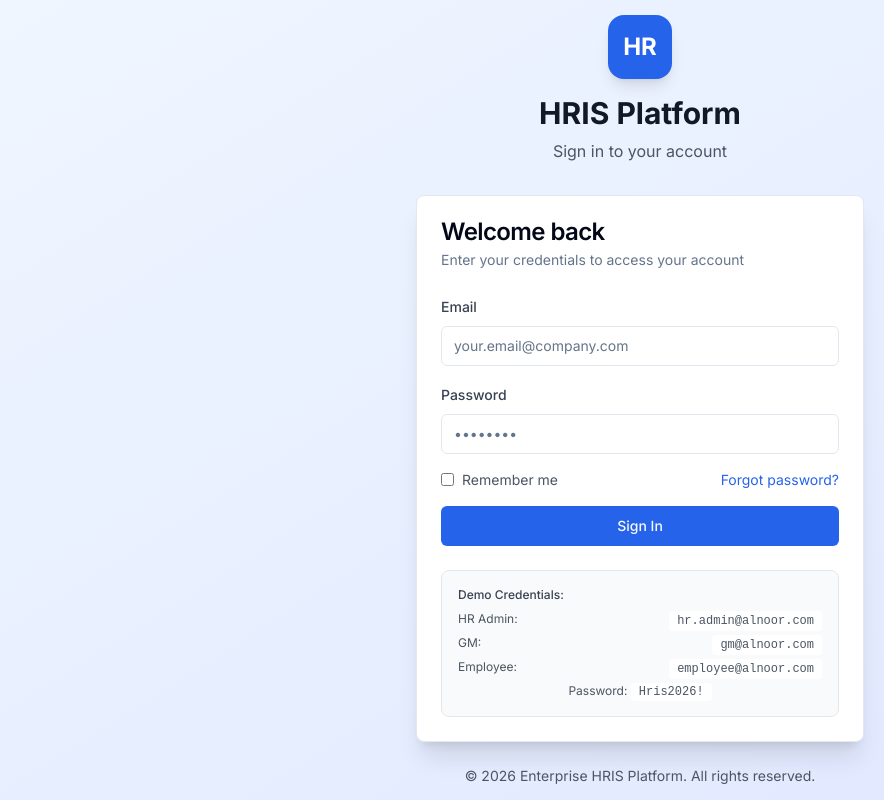
Test: LoginPage integration journey › shows backend error on failed login
In the field labelled "Email": (640, 346) [441,326,839,366], type "employee@company.com"
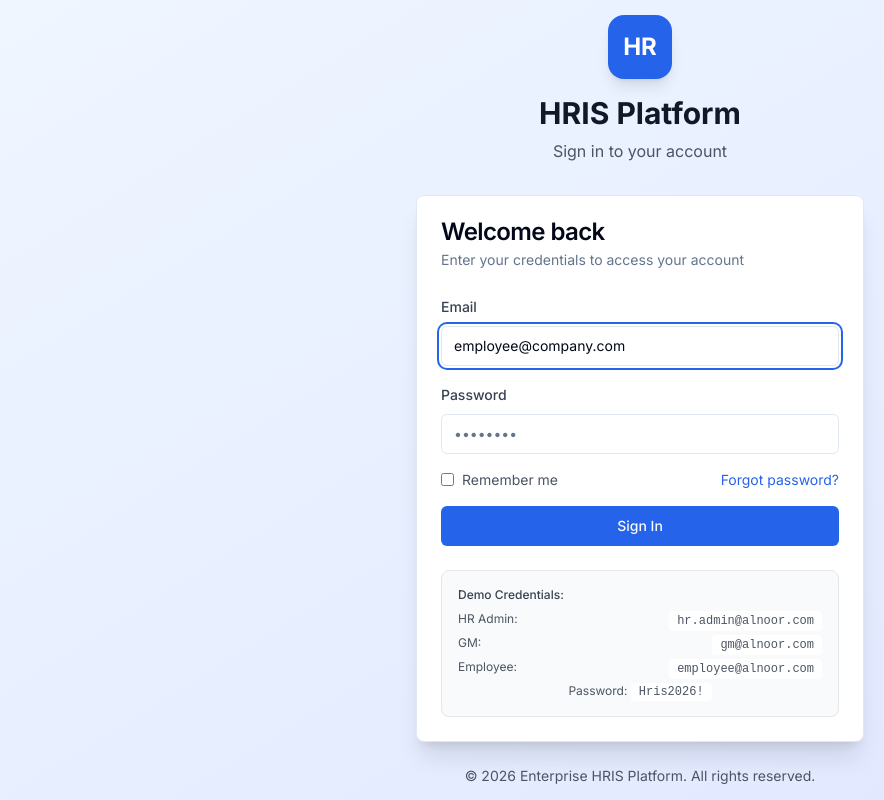
In the password field labelled "Password": (640, 434) [441,414,839,454], type "wrong"
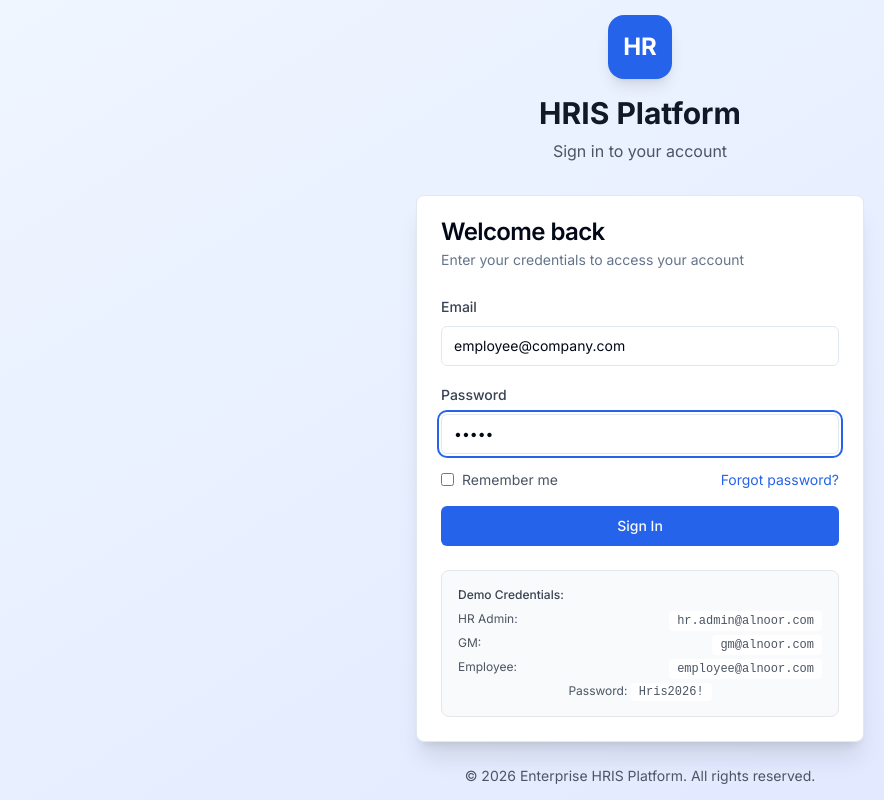
Click the button "Sign In": (640, 526) [441,506,839,546]
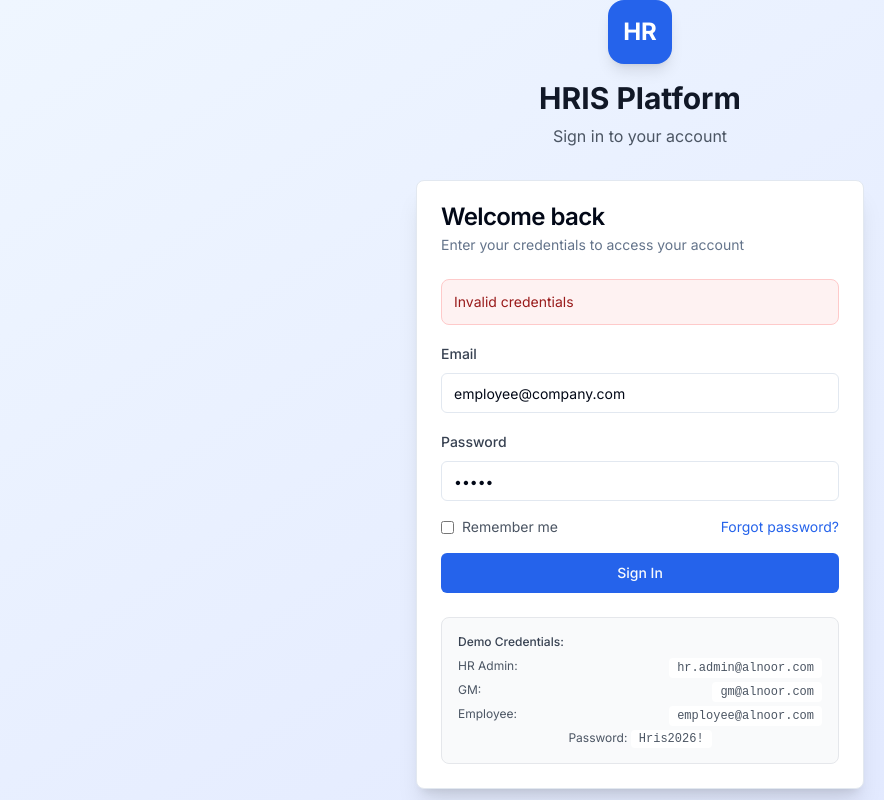
Expected: the text "Invalid credentials" is shown, [441,279,839,325]
